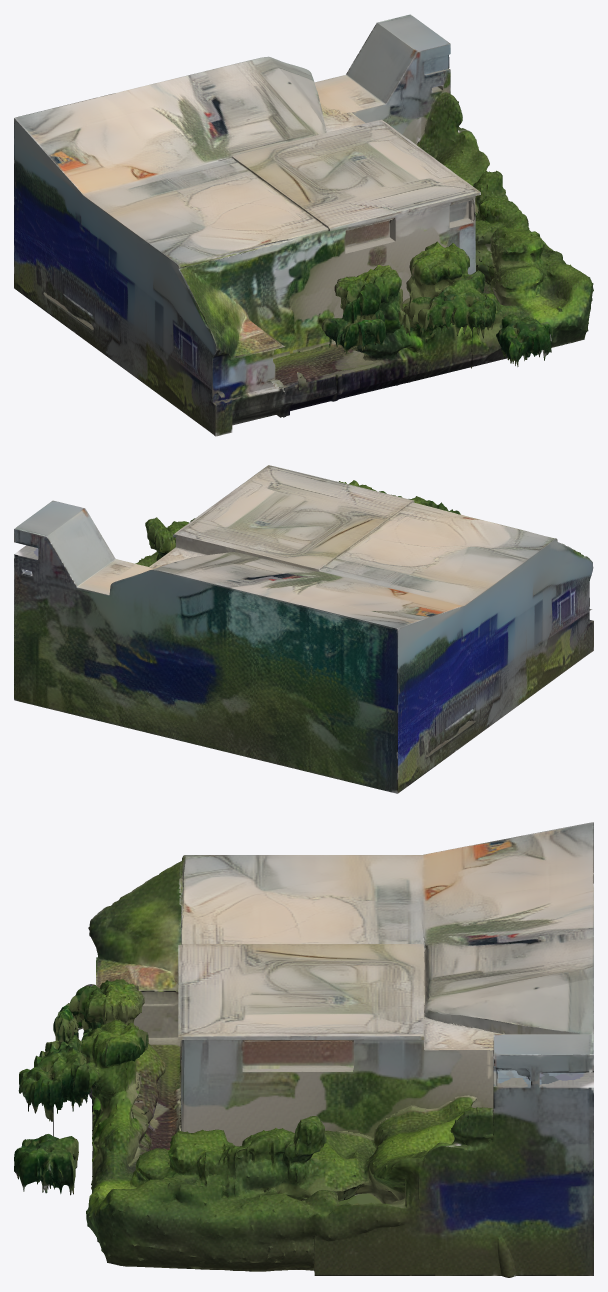
Rendered from base_basic_pbr.fbx.
3 renders of one model, top to bottom at view 1: azimuth 30°, elevation 25°; view 2: azimuth 150°, elevation 25°; view 3: azimuth 270°, elevation 25°, orthographic. The views are drawn at different scales.
Visible parts, largest first — view 1: model; view 2: model; view 3: model.
Part boxes in pixels (<box>): model: <box>14,14,593,436</box>; model: <box>14,465,593,793</box>; model: <box>14,822,593,1277</box>.
Size of the model in its own units: 190 by 80.42 by 191.
Materials: 1 (1 with a texture image).
